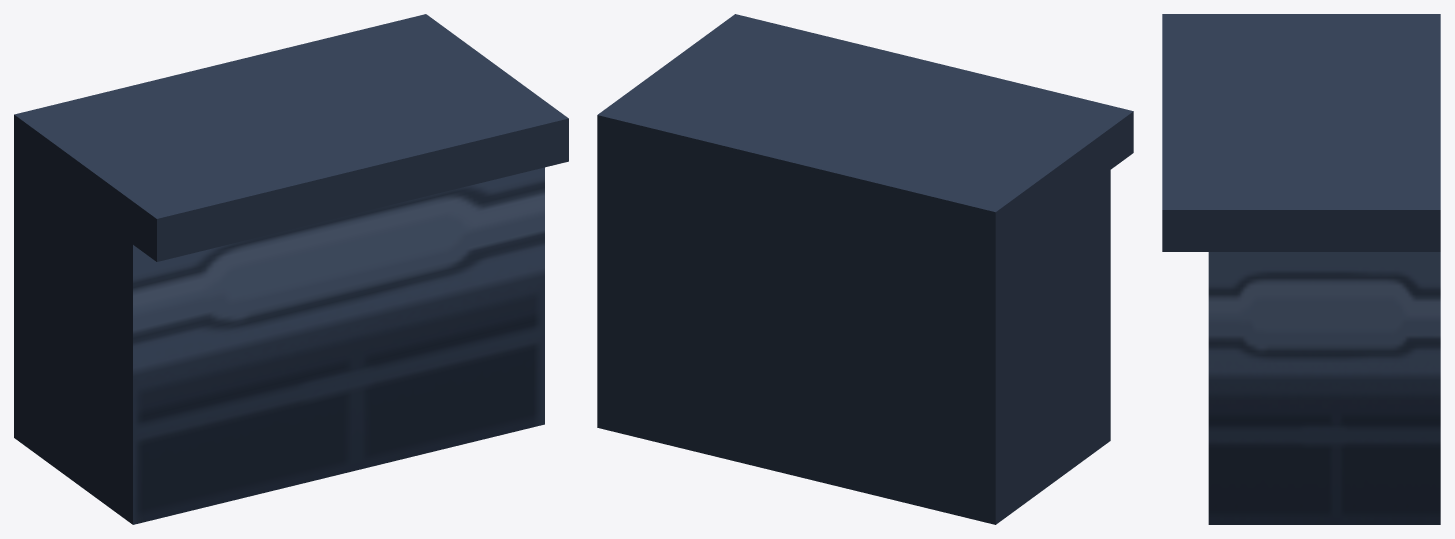
File: Counter1.fbx
3 views of the same model, side by side, from view 1: azimuth 30°, elevation 25°; view 2: azimuth 150°, elevation 25°; view 3: azimuth 270°, elevation 25° (orthographic). The views are drawn at different scales.
Visible parts, largest first — view 1: Cube.010; view 2: Cube.010; view 3: Cube.010.
Part boxes in pixels (<box>): Cube.010: <box>14,14,568,524</box>; Cube.010: <box>597,14,1133,524</box>; Cube.010: <box>1162,14,1440,524</box>.
Size of the model in its own units: 200 by 150 by 120.
